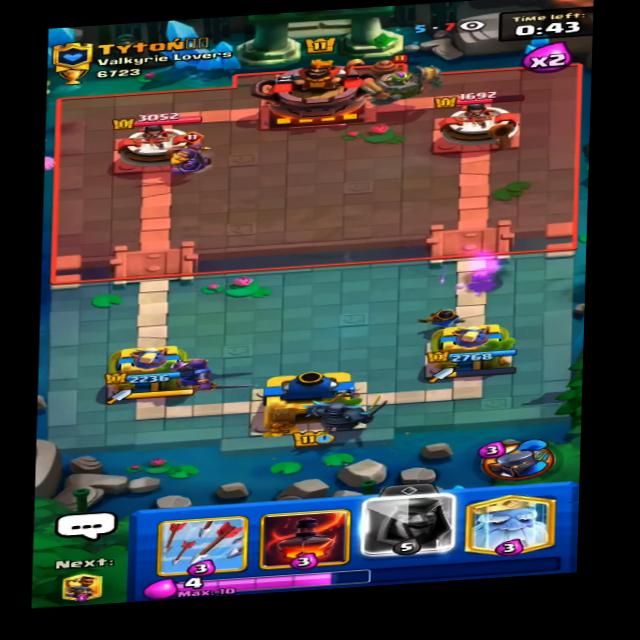evo-knight: (157, 129, 229, 177)
goblin-machine: (356, 54, 449, 110)
